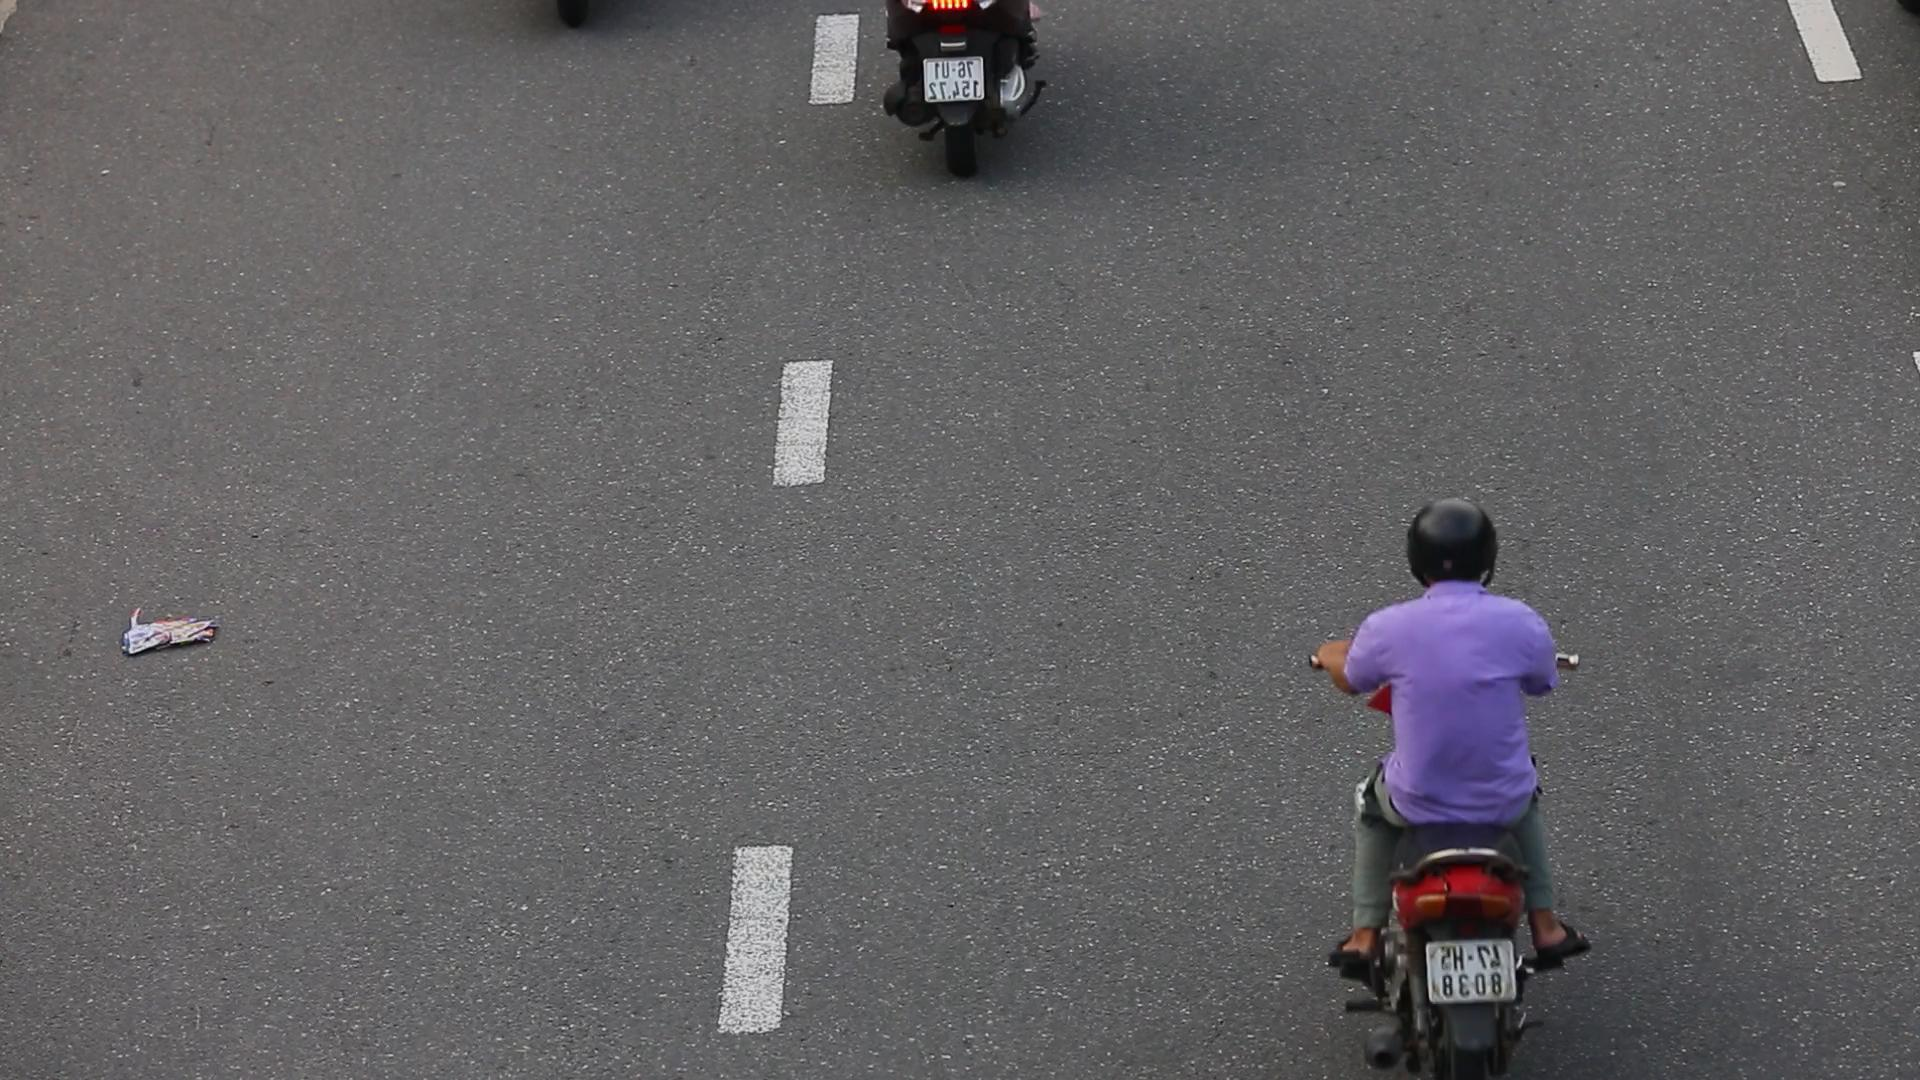motobike: (1299, 498, 1605, 1080)
